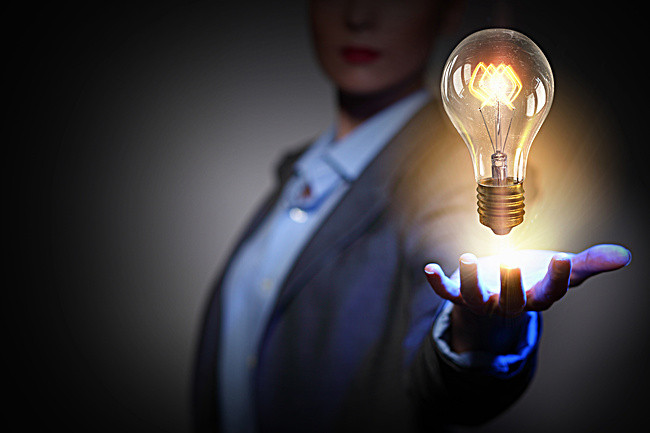Nonrec_Glass: (434, 24, 558, 234)
